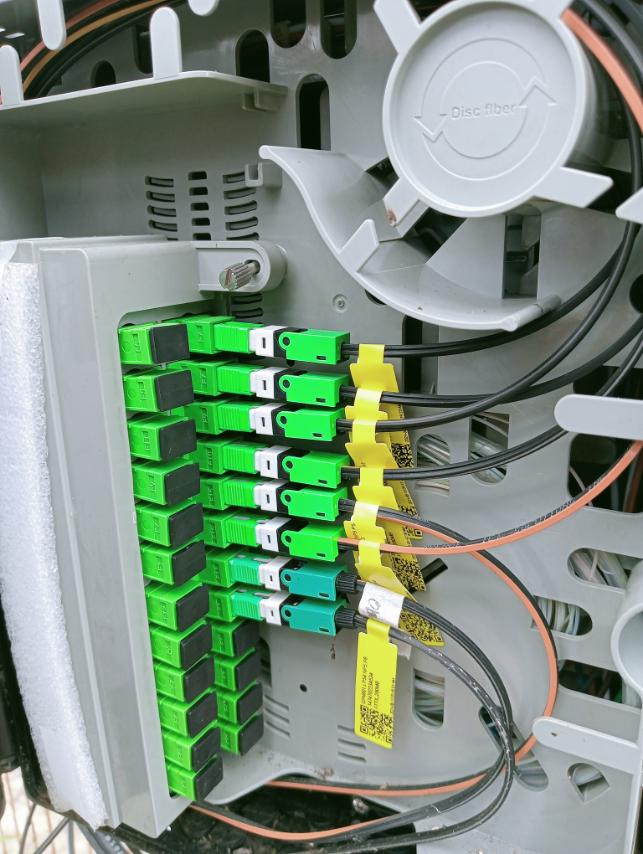occupied: (231, 585, 359, 641), (215, 317, 353, 367), (230, 553, 360, 606), (216, 360, 350, 409), (228, 512, 353, 564), (225, 441, 354, 491), (225, 481, 352, 523), (217, 403, 347, 442)
vacant: (157, 371, 195, 412), (151, 325, 190, 364), (174, 542, 207, 587), (162, 419, 197, 461), (178, 587, 209, 632), (184, 657, 215, 702), (172, 504, 204, 547), (195, 756, 224, 803), (182, 624, 211, 671), (167, 464, 200, 505), (189, 694, 217, 739), (193, 727, 219, 774), (239, 682, 262, 726), (241, 714, 264, 757), (235, 621, 259, 658), (238, 652, 260, 690)
